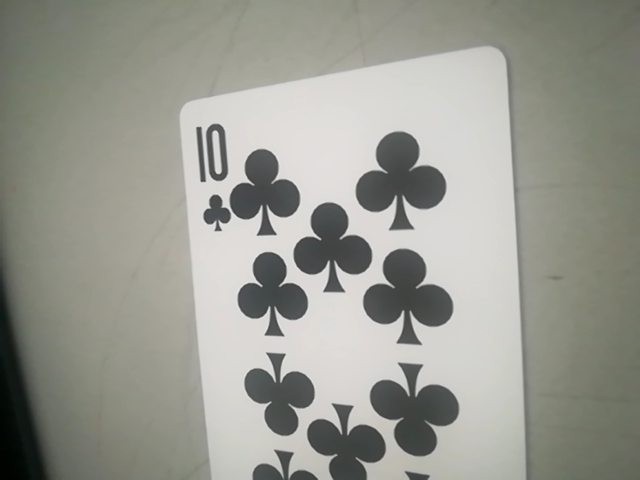mh 10: (173, 51, 535, 474)
